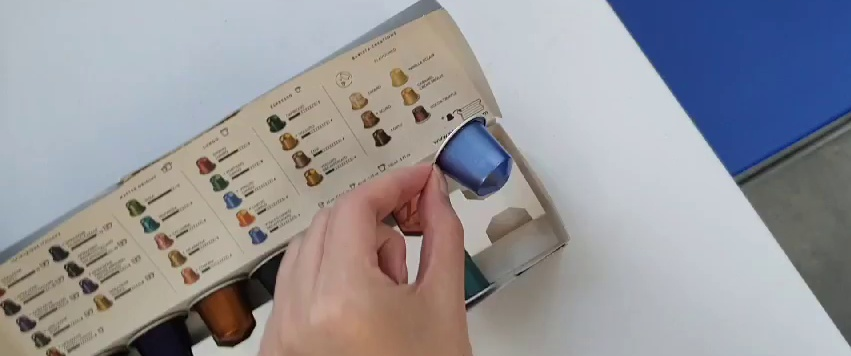capsule_7: (433, 116, 514, 198)
